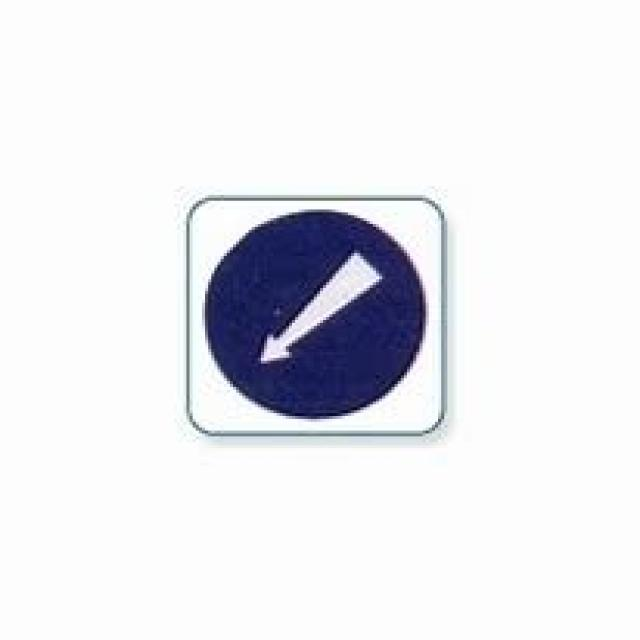compulsory_cycle_track: (174, 183, 460, 445)
